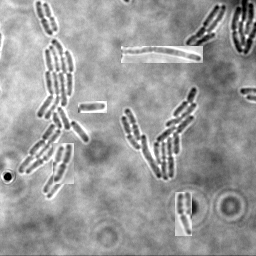Dividing: (121, 46, 203, 63), (53, 143, 74, 184), (175, 192, 192, 236), (34, 1, 52, 37), (41, 3, 57, 33), (78, 101, 107, 113)
Microcolony: (18, 40, 89, 199), (120, 87, 197, 181), (184, 5, 226, 52), (230, 1, 255, 56)
